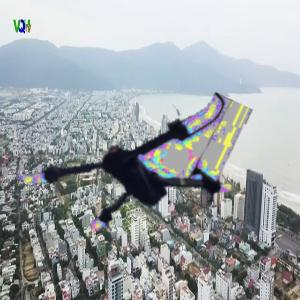drone: (25, 63, 234, 272)
